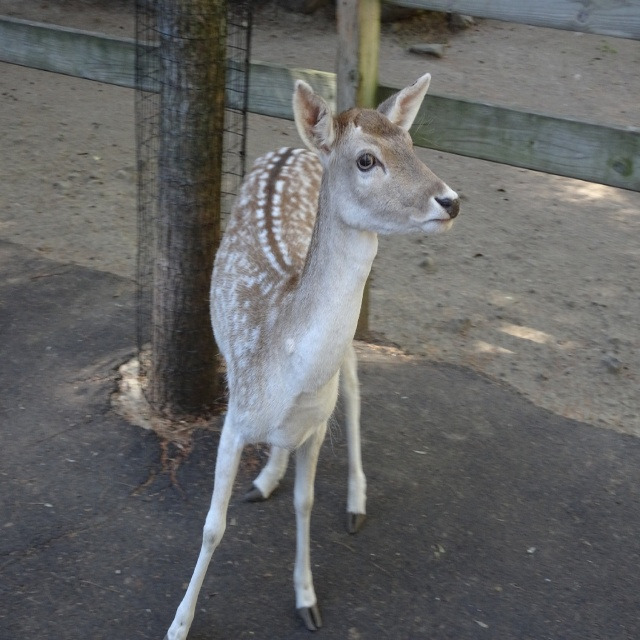Deer: (162, 71, 460, 640)
